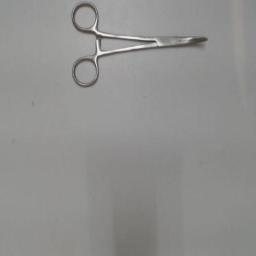Crile Artery Forceps: (70, 2, 212, 88)
